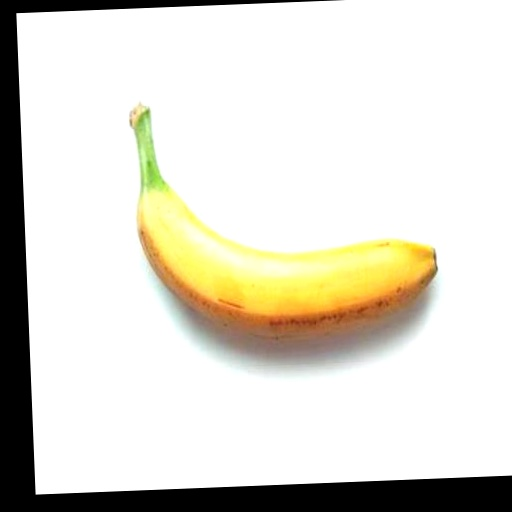fruit: (129, 102, 436, 337)
